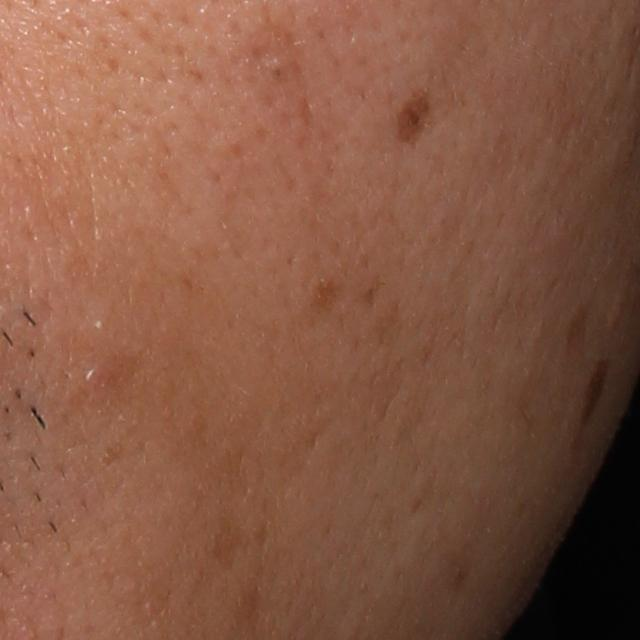nevus: (394, 90, 441, 154), (582, 350, 610, 427)
